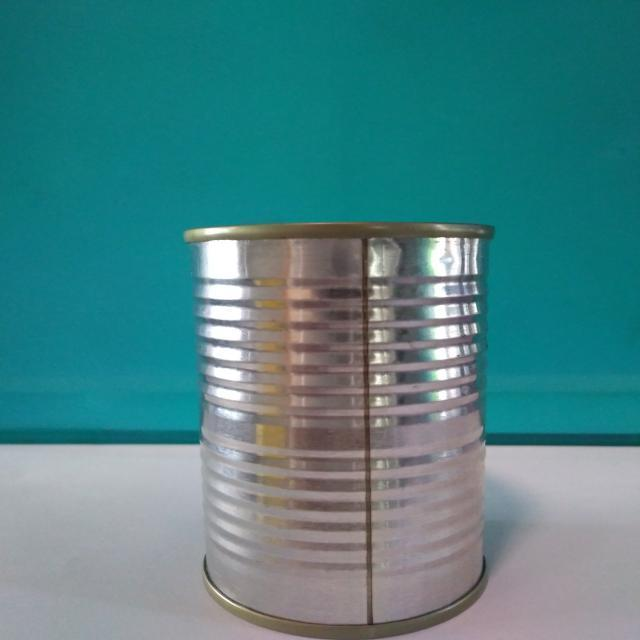metal-can: (181, 218, 497, 638)
